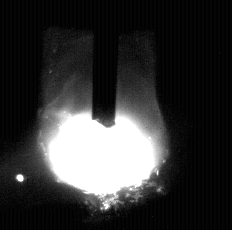arame: (92, 0, 118, 127)
poca: (38, 0, 169, 230)
